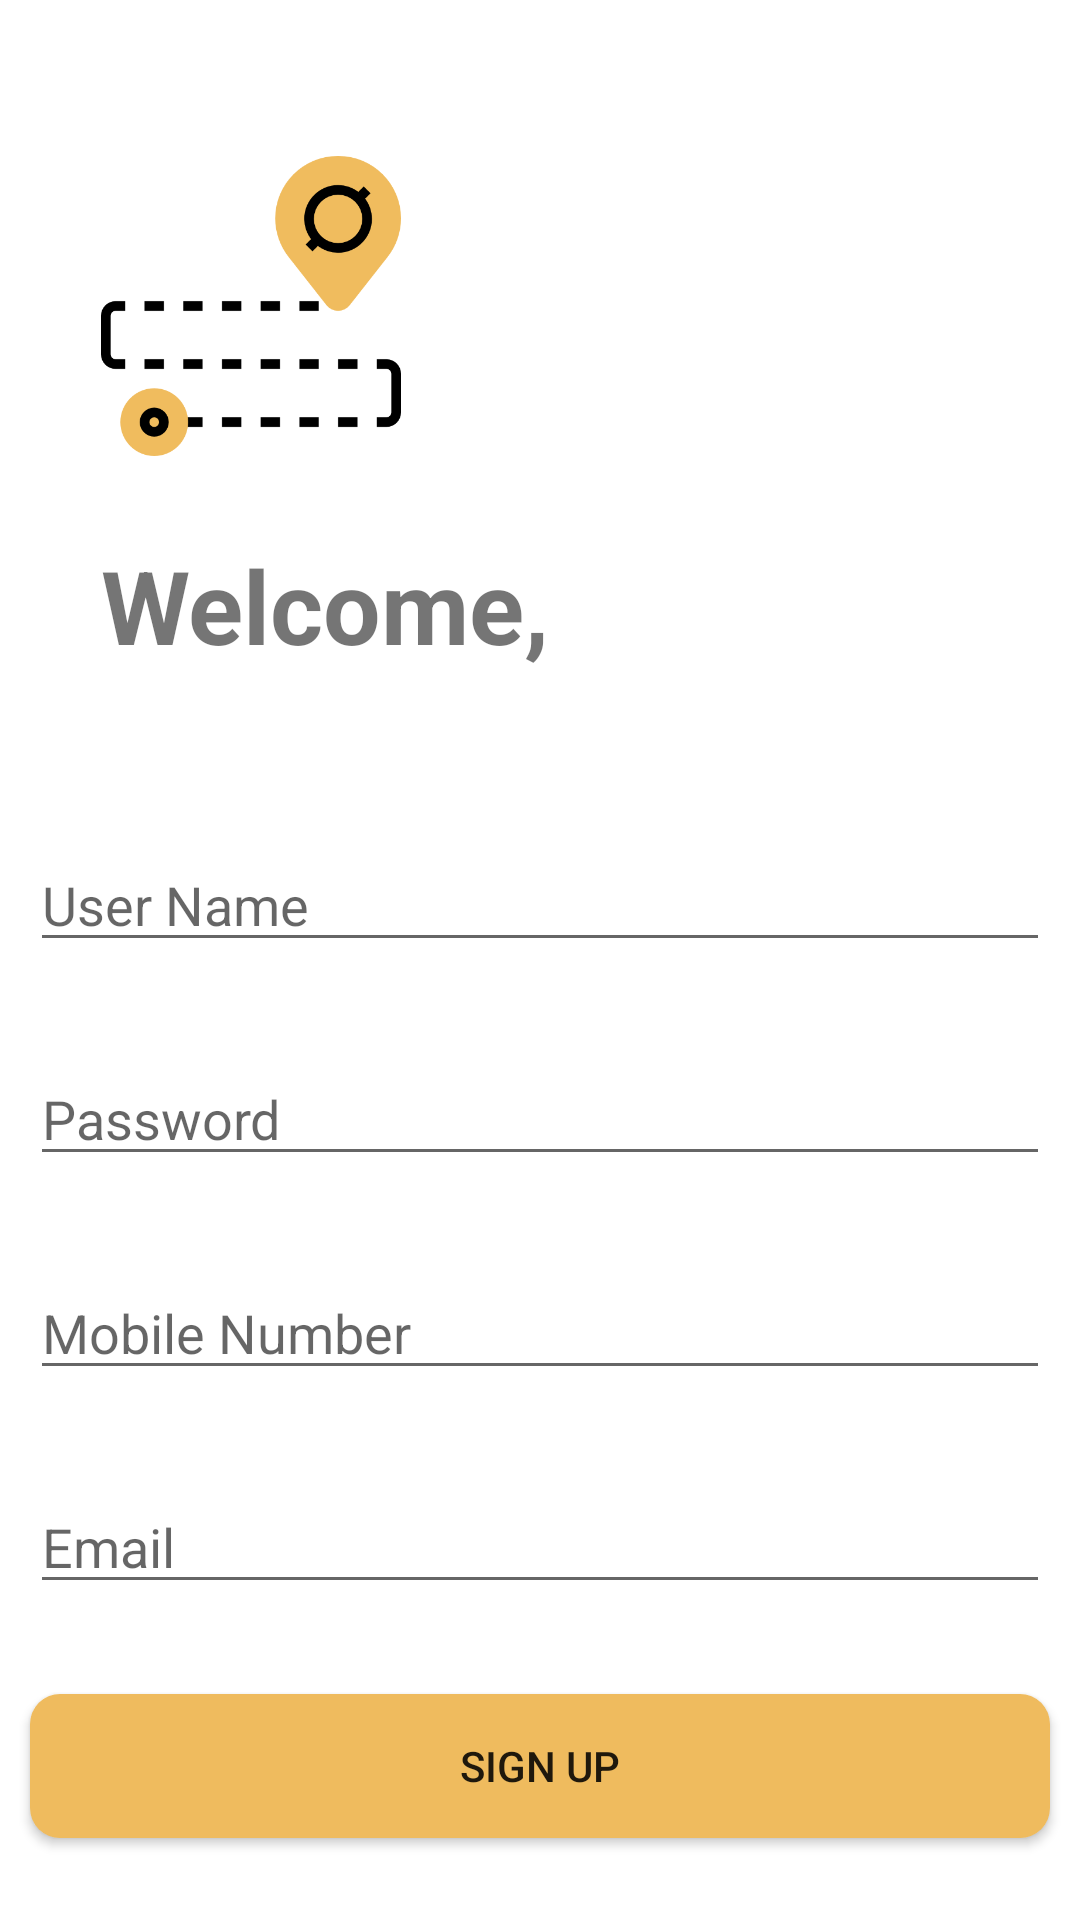

Where icons sit on this 1080*1920 app screen, as [left=x1, top=y1, right=x2, bottom=y2]:
route: [left=101, top=156, right=401, bottom=456]
